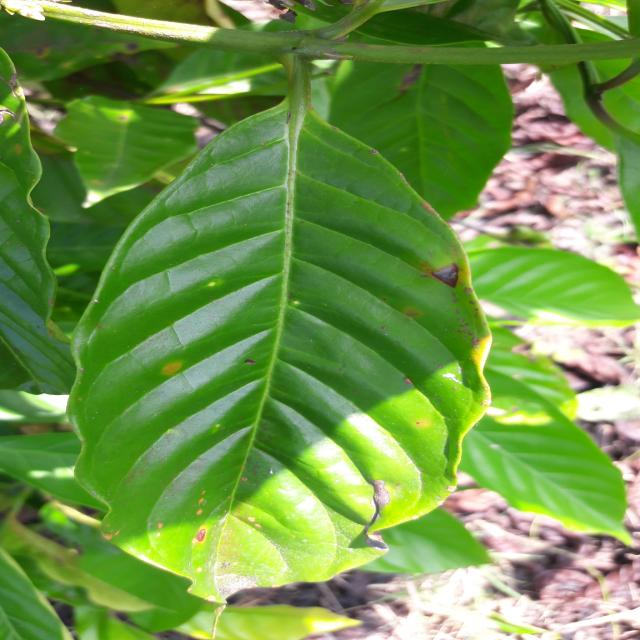Enfermedad-Roya: (52, 54, 490, 617)
